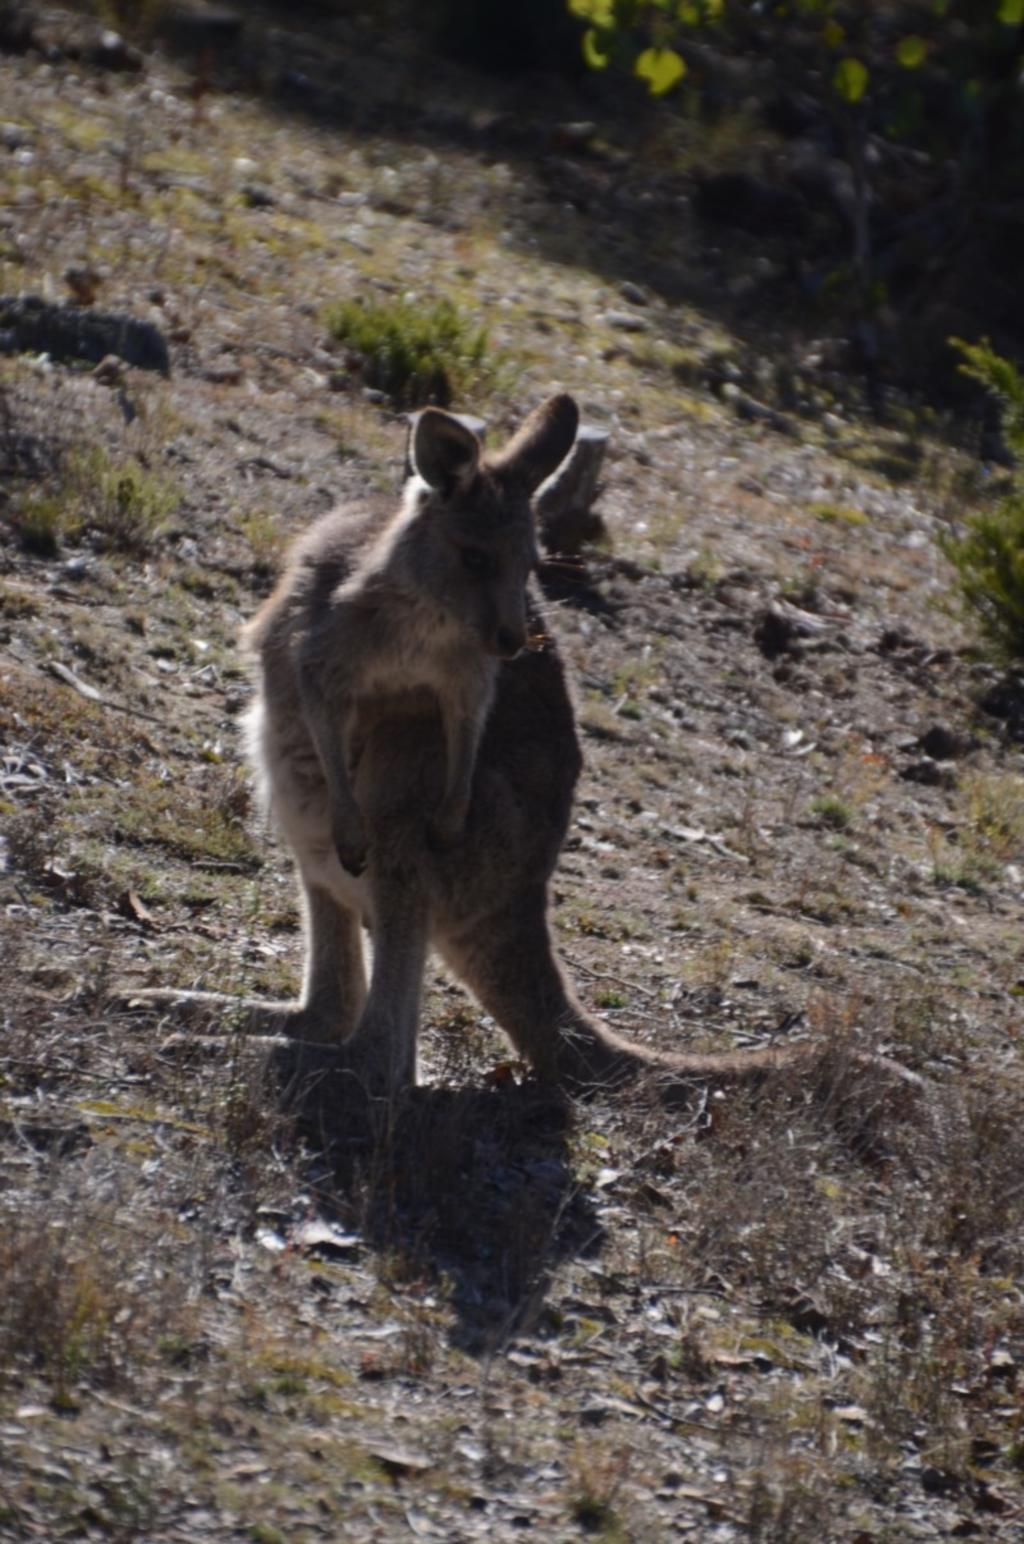Eastern grey kangaroo: (102, 392, 944, 1110)
